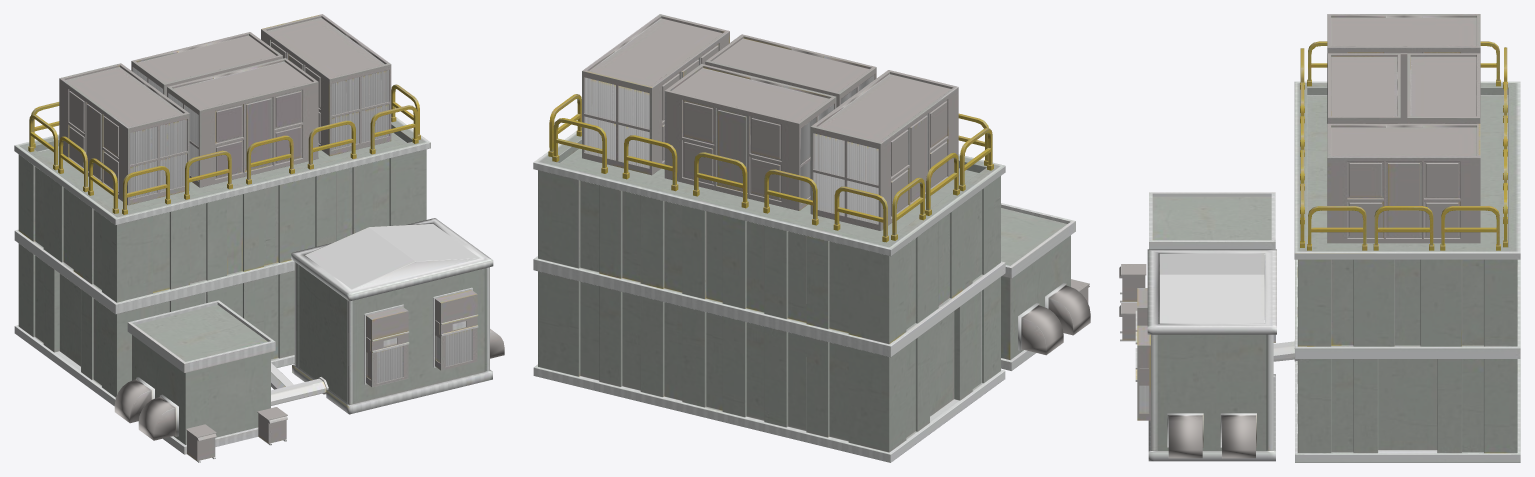
The model's file is BUILDING_Power_1.1.fbx.
3 views of the same model, side by side, from view 1: azimuth 30°, elevation 25°; view 2: azimuth 150°, elevation 25°; view 3: azimuth 270°, elevation 25° (orthographic). The views are drawn at different scales.
Parts seen in each view (by area): view 1: BUILDING_Power_1.1_Baked; view 2: BUILDING_Power_1.1_Baked; view 3: BUILDING_Power_1.1_Baked.
Part boxes in pixels (<box>): BUILDING_Power_1.1_Baked: <box>14,14,504,462</box>; BUILDING_Power_1.1_Baked: <box>533,14,1090,462</box>; BUILDING_Power_1.1_Baked: <box>1119,14,1520,462</box>.
Size of the model in its own units: 162 by 115 by 144.
1 material, 1 textured.
